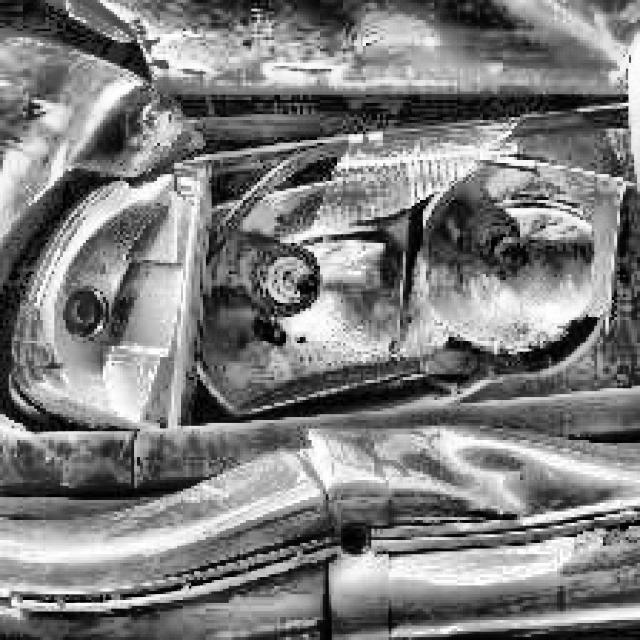head_lamp: (205, 124, 626, 380), (26, 177, 209, 412)
